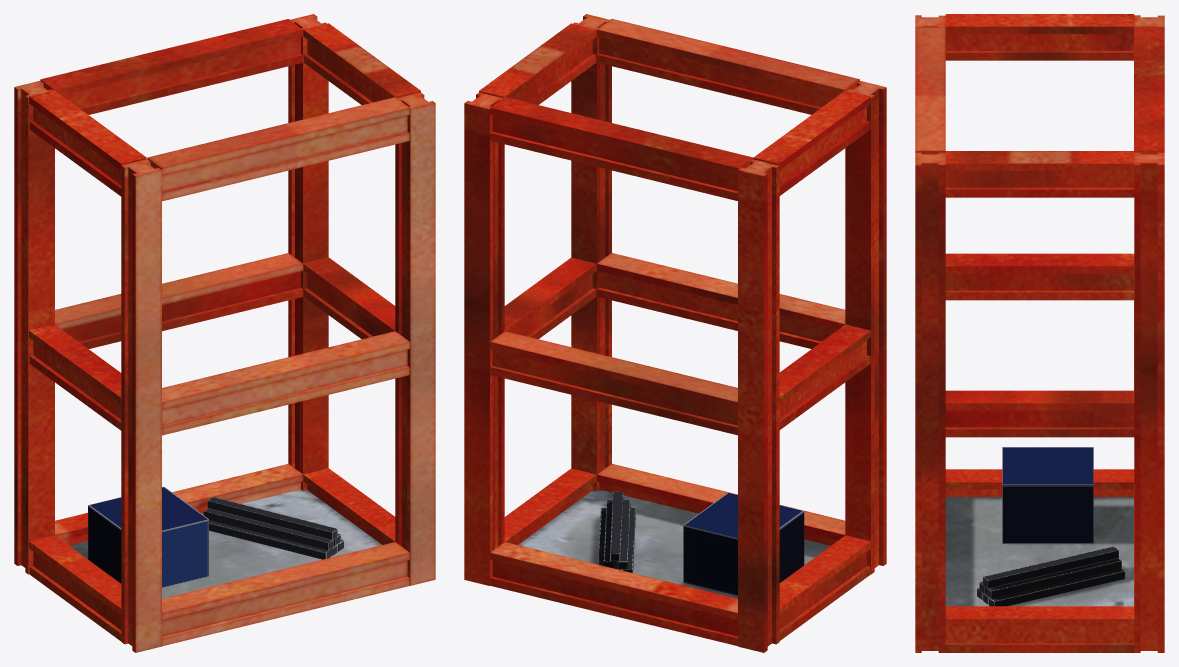
File: tower2-2.obj
3 views of the same model, side by side, from view 1: azimuth 30°, elevation 25°; view 2: azimuth 150°, elevation 25°; view 3: azimuth 270°, elevation 25° (orthographic). The views are drawn at different scales.
Bounding box in the file's own units: 9.06 × 13.78 × 6.37.
Materials: 1 (1 with a texture image).
